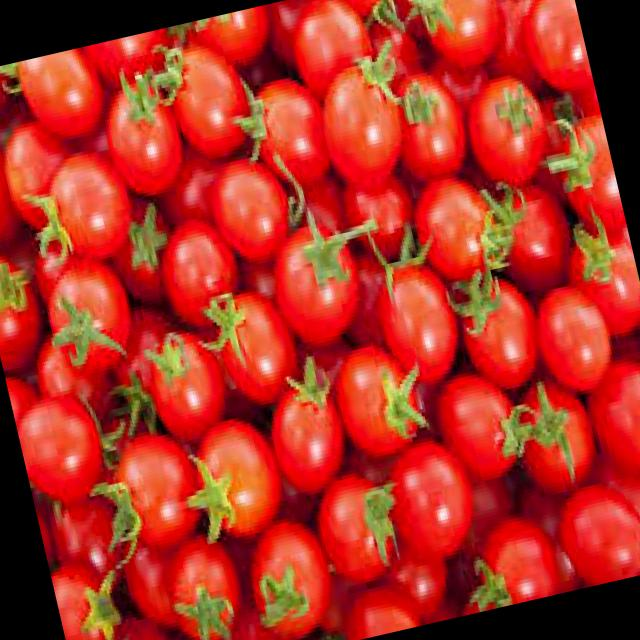Tomato: (362, 242, 474, 421), (302, 43, 414, 206), (168, 407, 292, 552), (22, 140, 150, 280), (316, 328, 437, 471), (372, 422, 484, 570), (519, 256, 620, 416), (194, 283, 318, 410), (186, 132, 302, 267), (26, 250, 140, 386), (262, 230, 378, 355), (234, 506, 342, 640), (431, 353, 530, 496), (252, 377, 358, 502), (541, 462, 640, 591), (316, 459, 408, 595), (451, 509, 566, 614), (136, 316, 230, 444), (152, 538, 257, 640), (11, 390, 106, 498)
